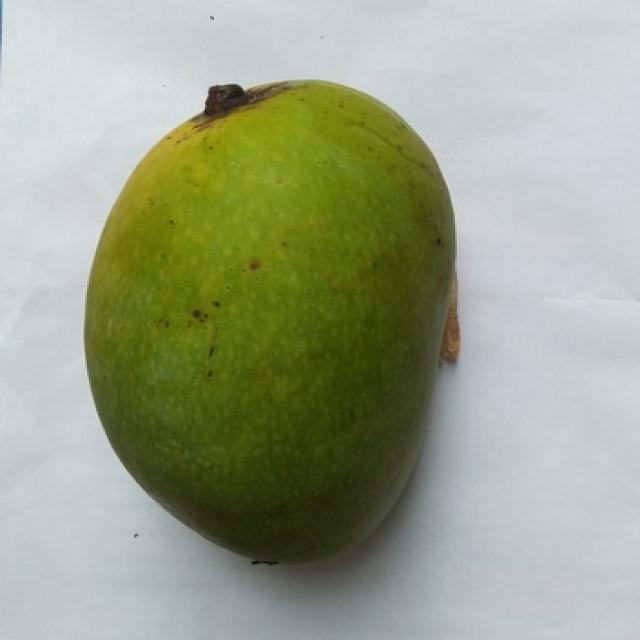Mango: (85, 80, 455, 561)
